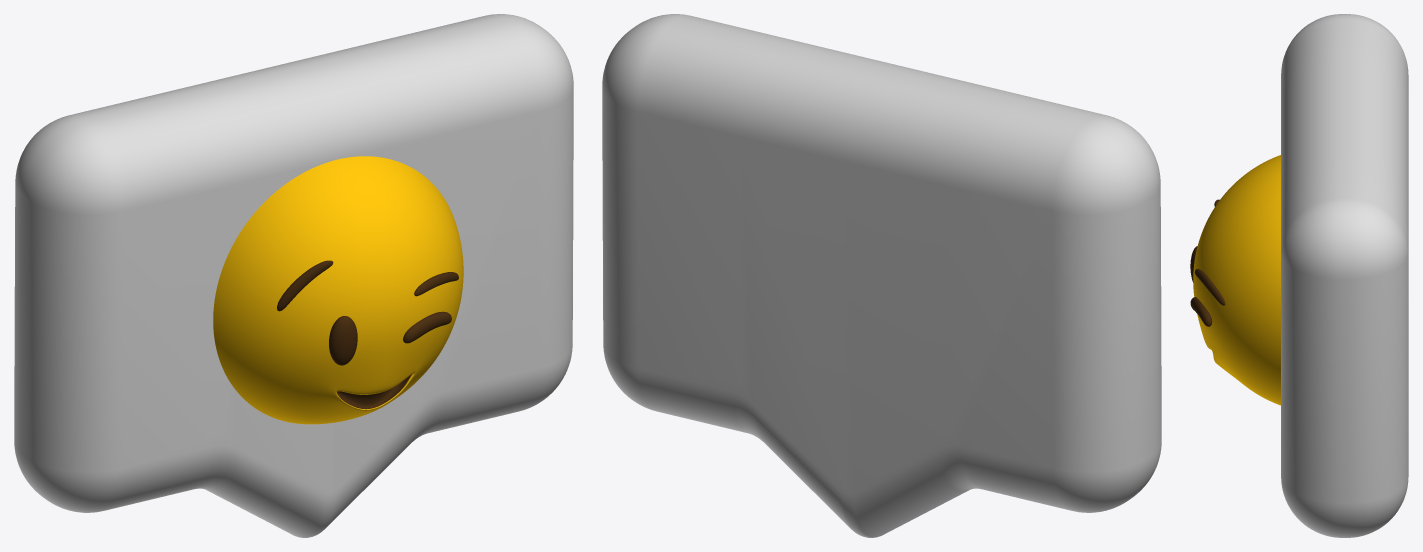
Rendered from mask5.glb.
3 views of the same model, side by side, from view 1: azimuth 30°, elevation 25°; view 2: azimuth 150°, elevation 25°; view 3: azimuth 270°, elevation 25° (orthographic). The views are drawn at different scales.
Parts seen in each view (by area): view 1: Cube.016_63, Sphere_58, Sphere.002_59, Plane.009_60, Cube.004_61; view 2: Cube.016_63; view 3: Cube.016_63, Sphere_58, Plane.010_62, Cube.004_61.
Part boxes in pixels (bbox=[...]): Cube.016_63: bbox=[14, 14, 573, 537]; Sphere_58: bbox=[213, 156, 463, 424]; Sphere.002_59: bbox=[329, 316, 357, 365]; Plane.009_60: bbox=[277, 260, 333, 311]; Cube.004_61: bbox=[403, 311, 451, 343]; Cube.016_63: bbox=[602, 14, 1161, 537]; Cube.016_63: bbox=[1281, 14, 1408, 537]; Sphere_58: bbox=[1193, 155, 1280, 405]; Plane.010_62: bbox=[1194, 269, 1225, 305]; Cube.004_61: bbox=[1190, 297, 1212, 326].
Bounding box in the file's own units: 0.5115 × 0.4188 × 0.206.
